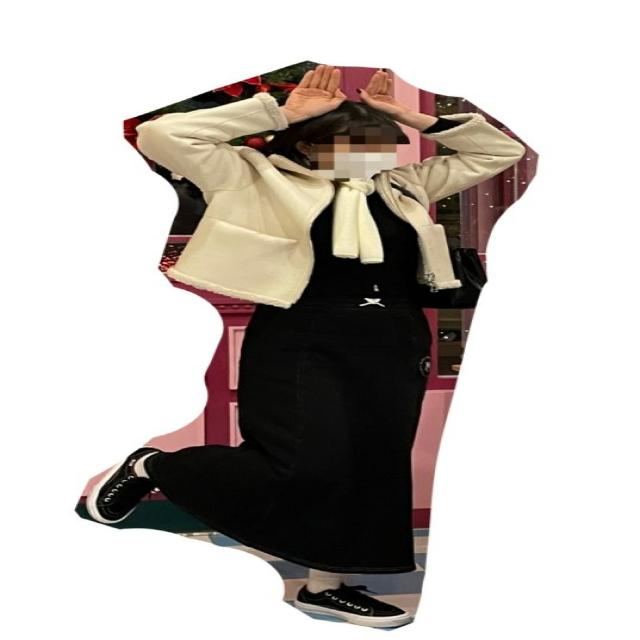jacket: (136, 89, 524, 311)
skirt: (147, 266, 417, 574)
